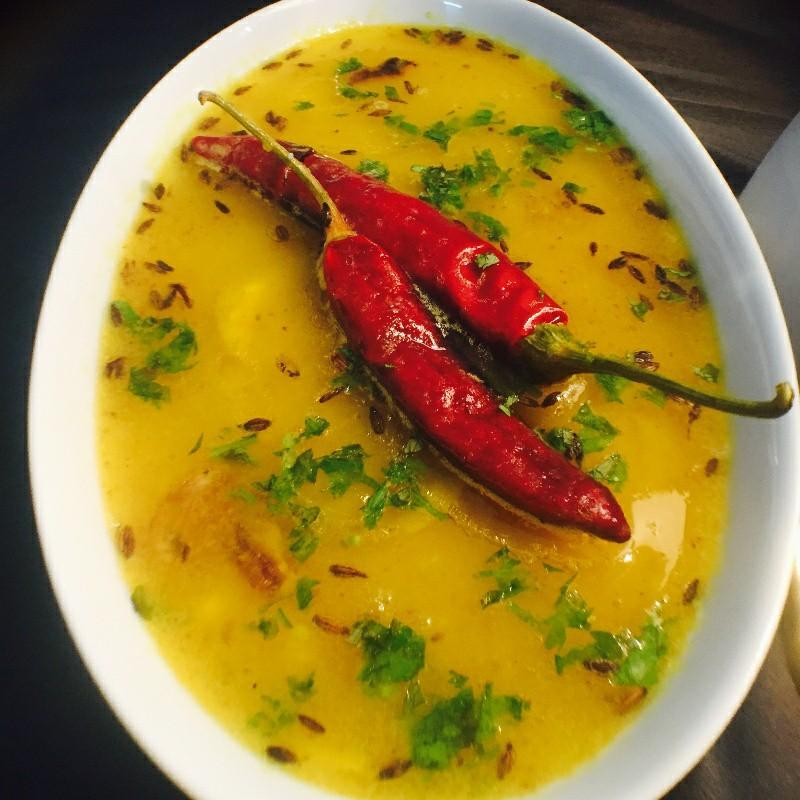Dal: (94, 29, 729, 800)
